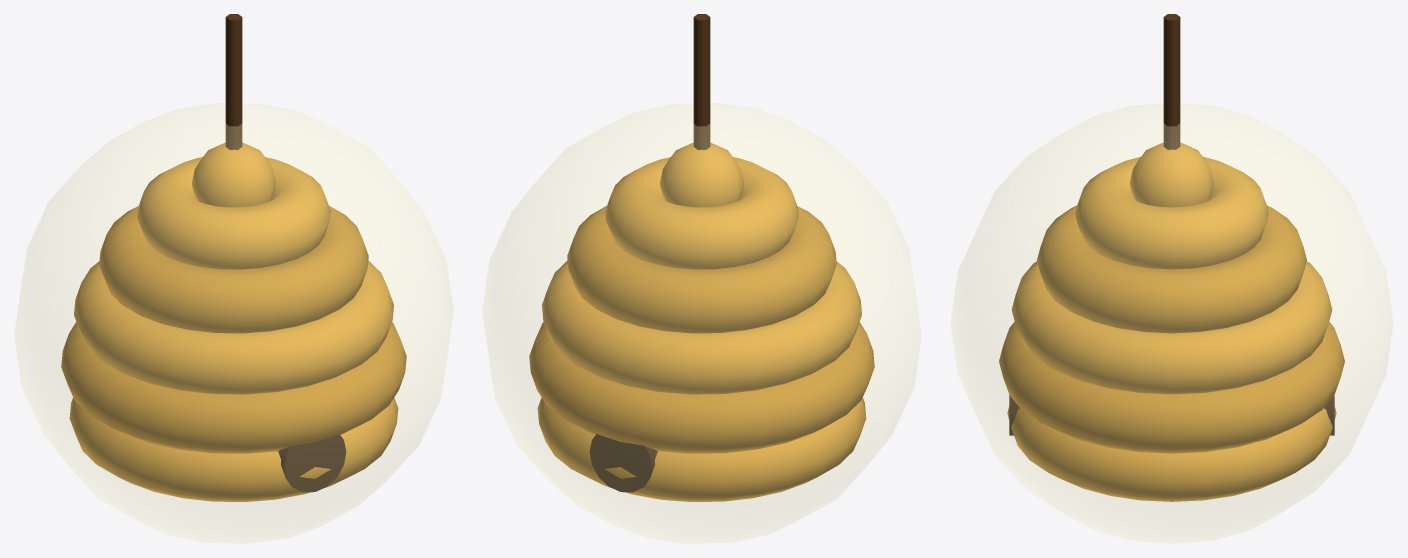
Rendered from wild-hive.glb.
The picture shows the model from 3 angles, left to right: view 1: azimuth 30°, elevation 25°; view 2: azimuth 150°, elevation 25°; view 3: azimuth 270°, elevation 25°; orthographic projection.
Size of the model in its own units: 2.1 by 2.65 by 2.1.
